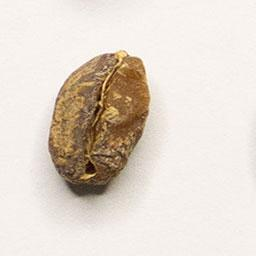defect: (44, 46, 155, 192)
